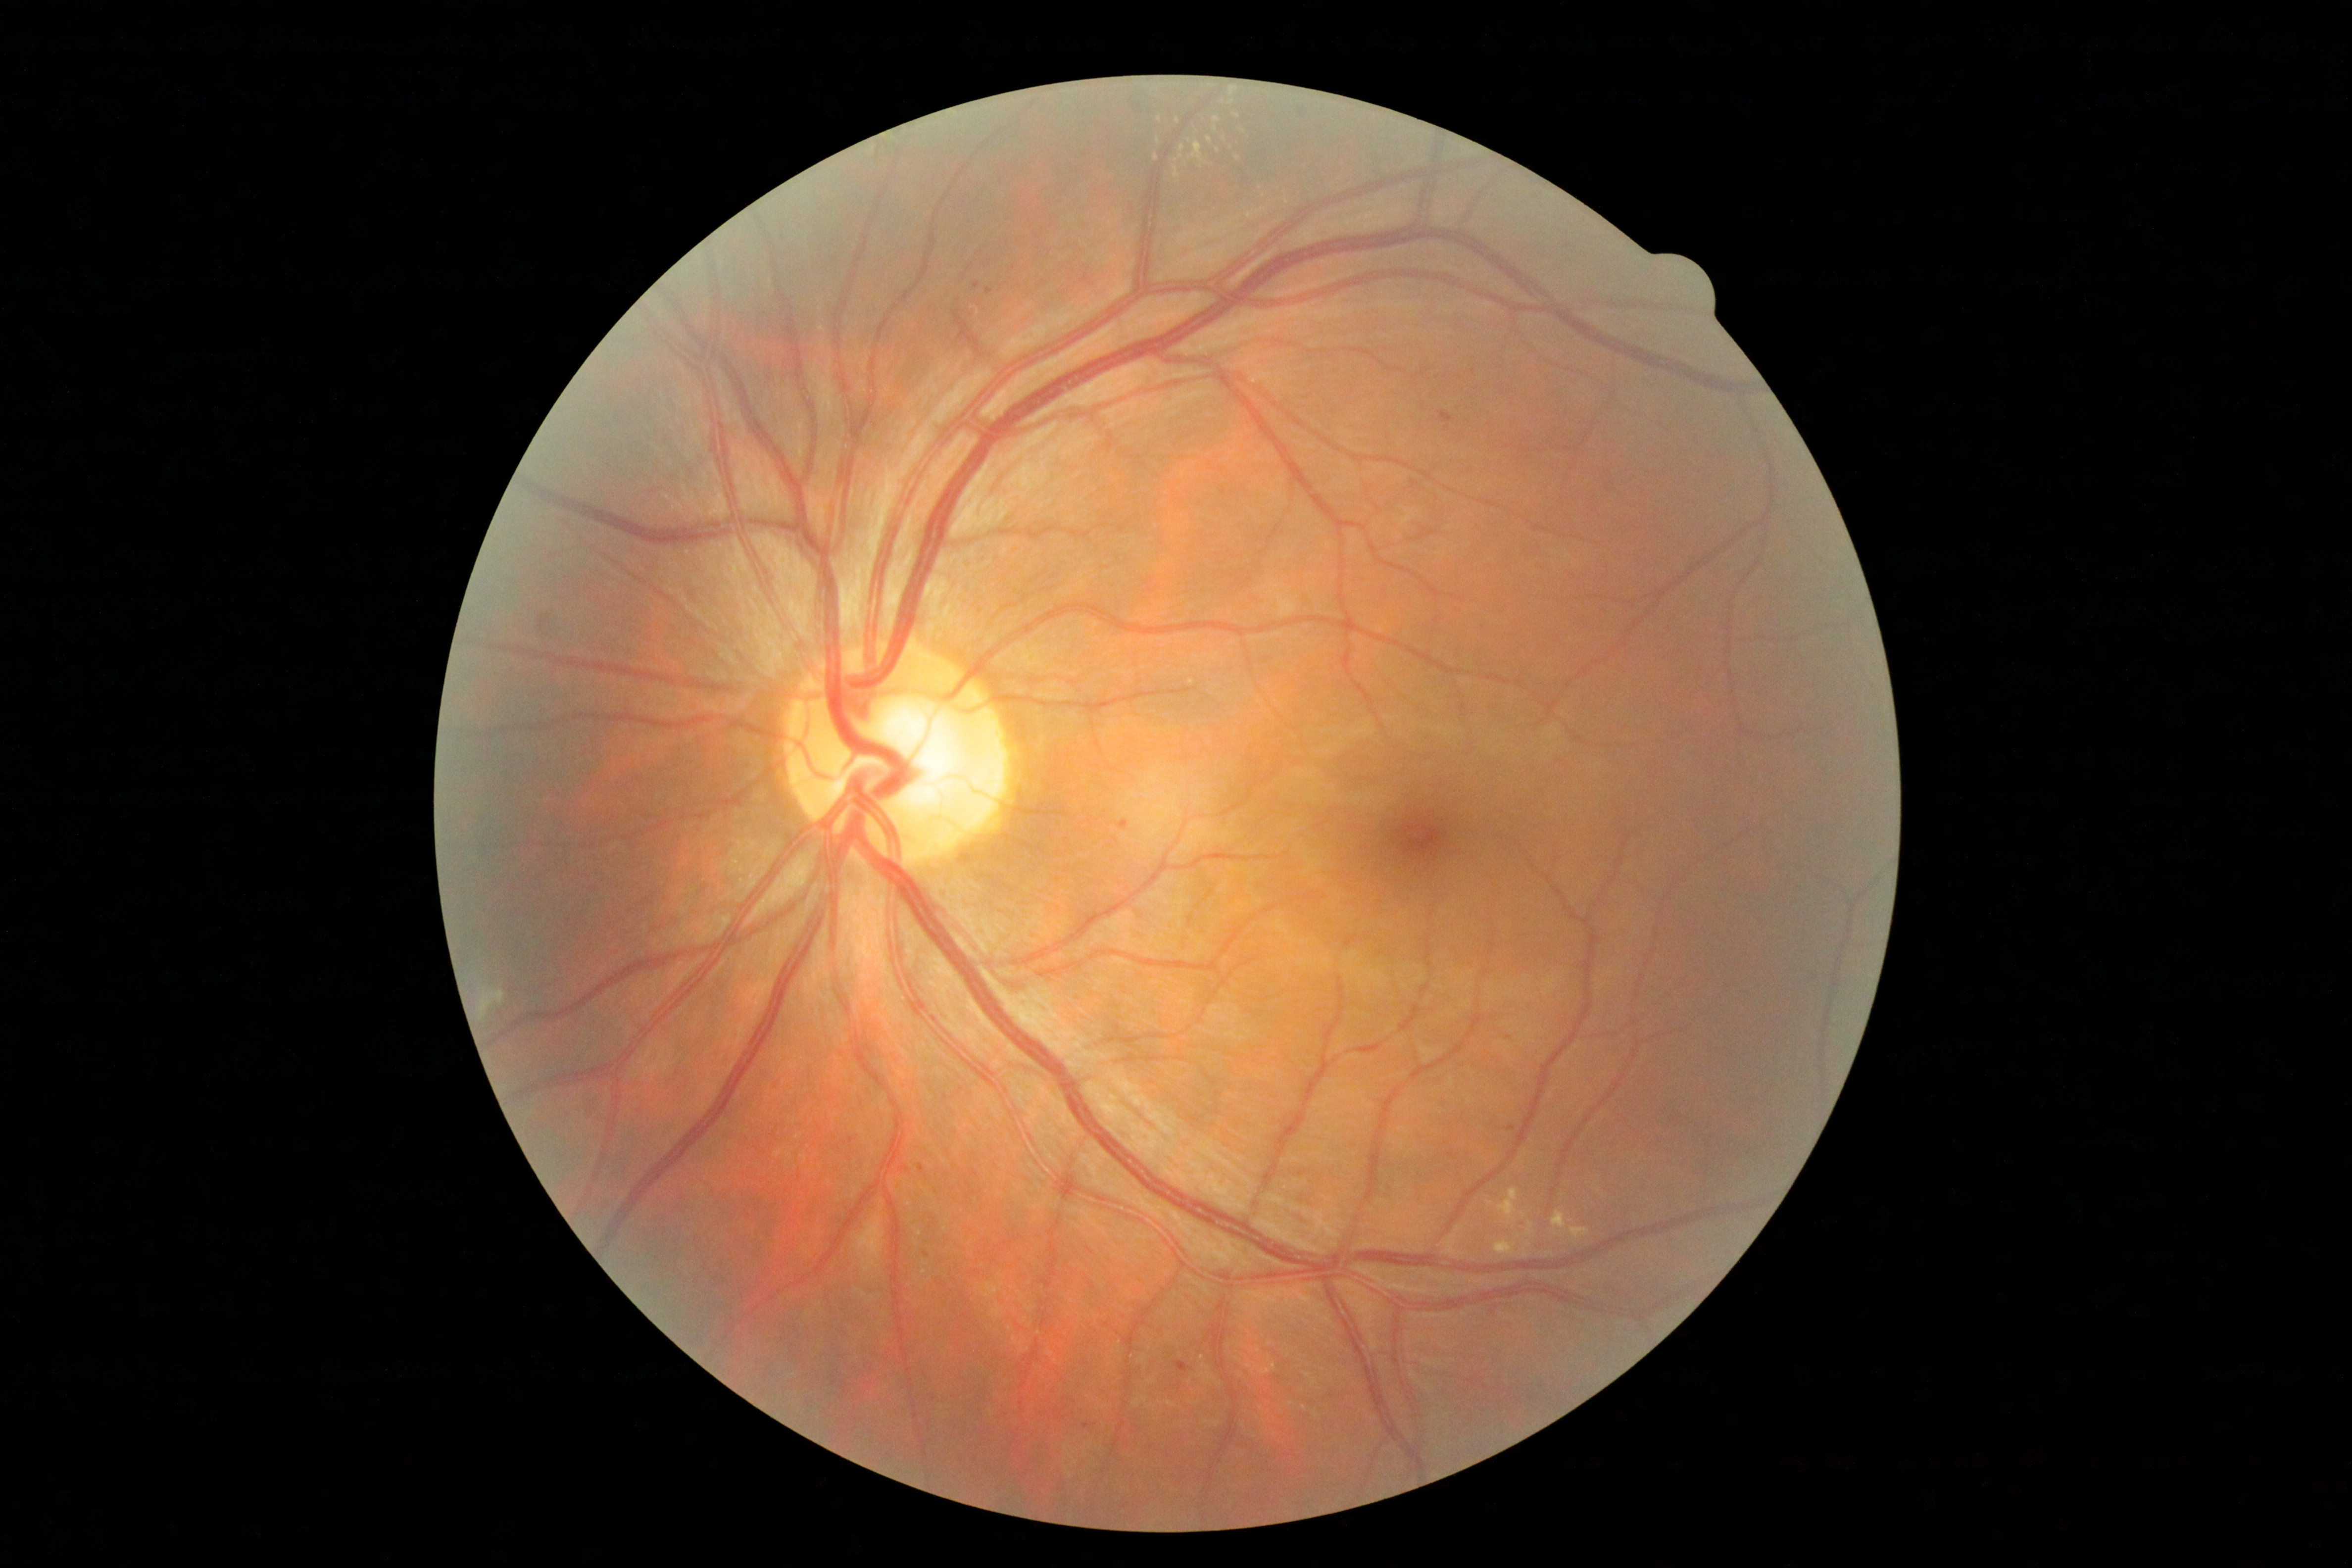Fovea: (1344, 763, 1501, 919)
OD: (759, 628, 1034, 889)
